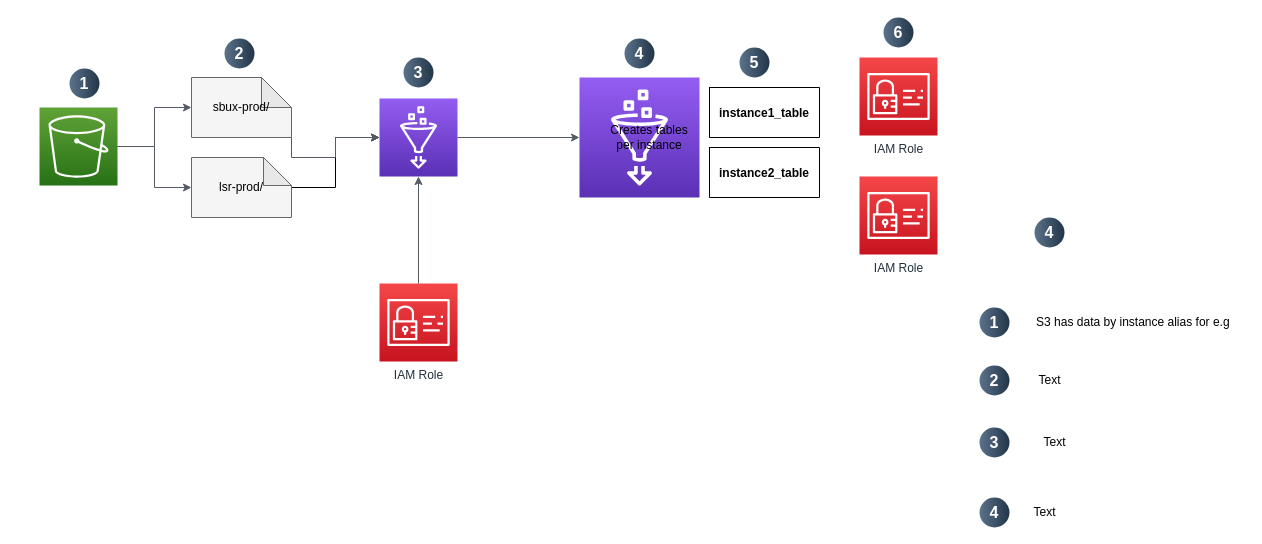
The diagram is 1262 pixels wide and 544 high, and some of its shapes have lost their labels. Each missing label, with the box of its shape:
Amazon S3 company-connect-data: (38, 106, 118, 186)
Glue Crawler (Scans all instances): (378, 98, 458, 176)
Glue Database: (578, 76, 700, 198)
